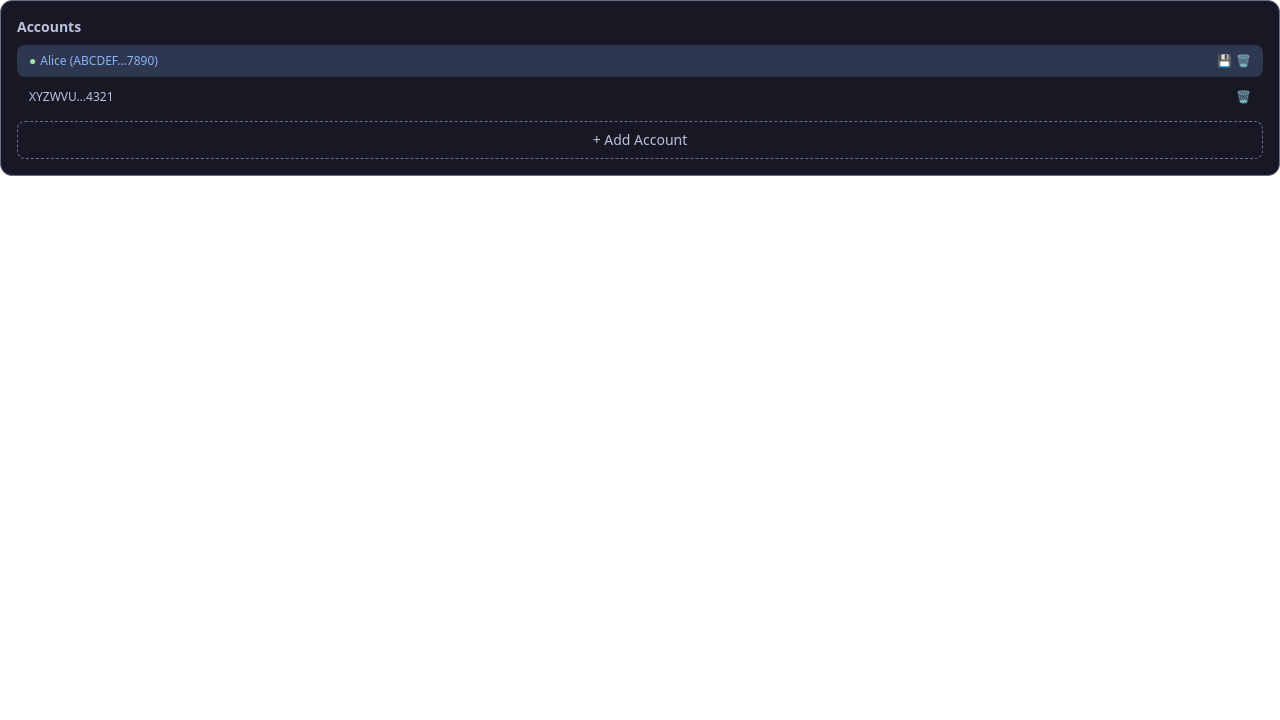
Test: AccountSwitcher › closing backup modal hides KeyExport
Click the button titled "Export key backup". click: (1224,61)
box: [1217, 53, 1232, 69]
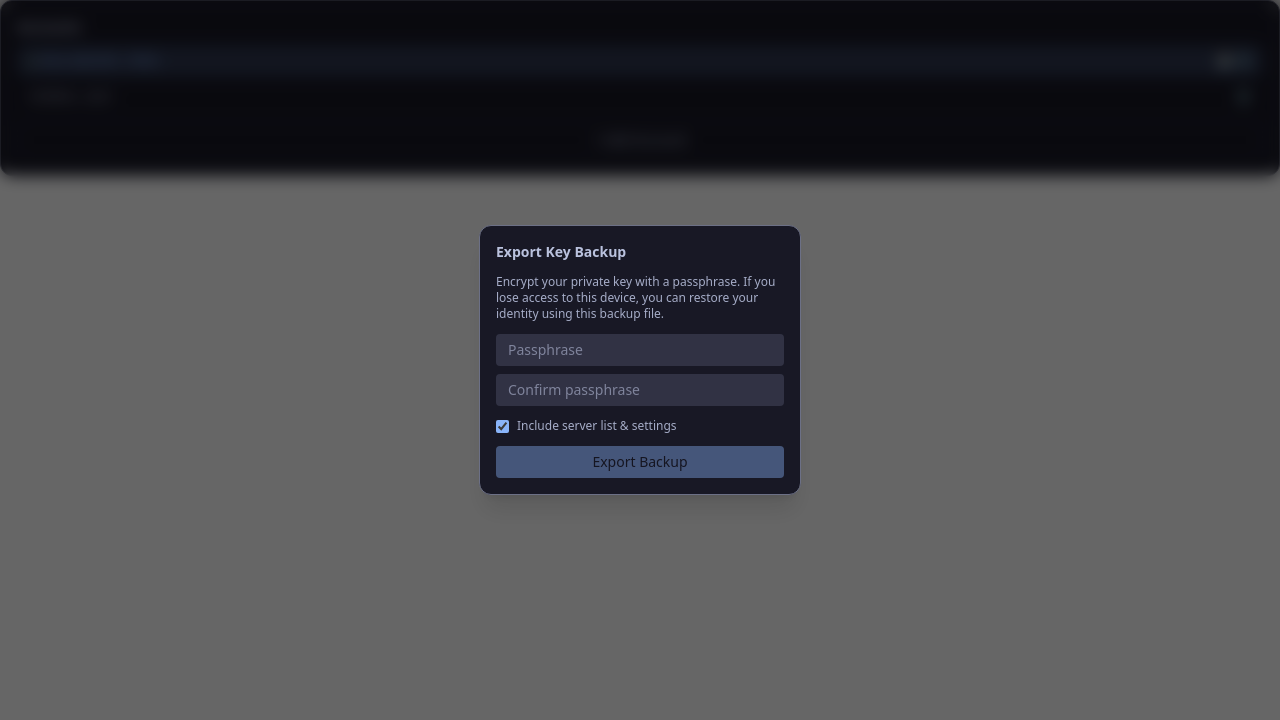
Now the heading "Export Key Backup" is shown, box [496, 242, 626, 261]
Close via Escape key
Press Escape
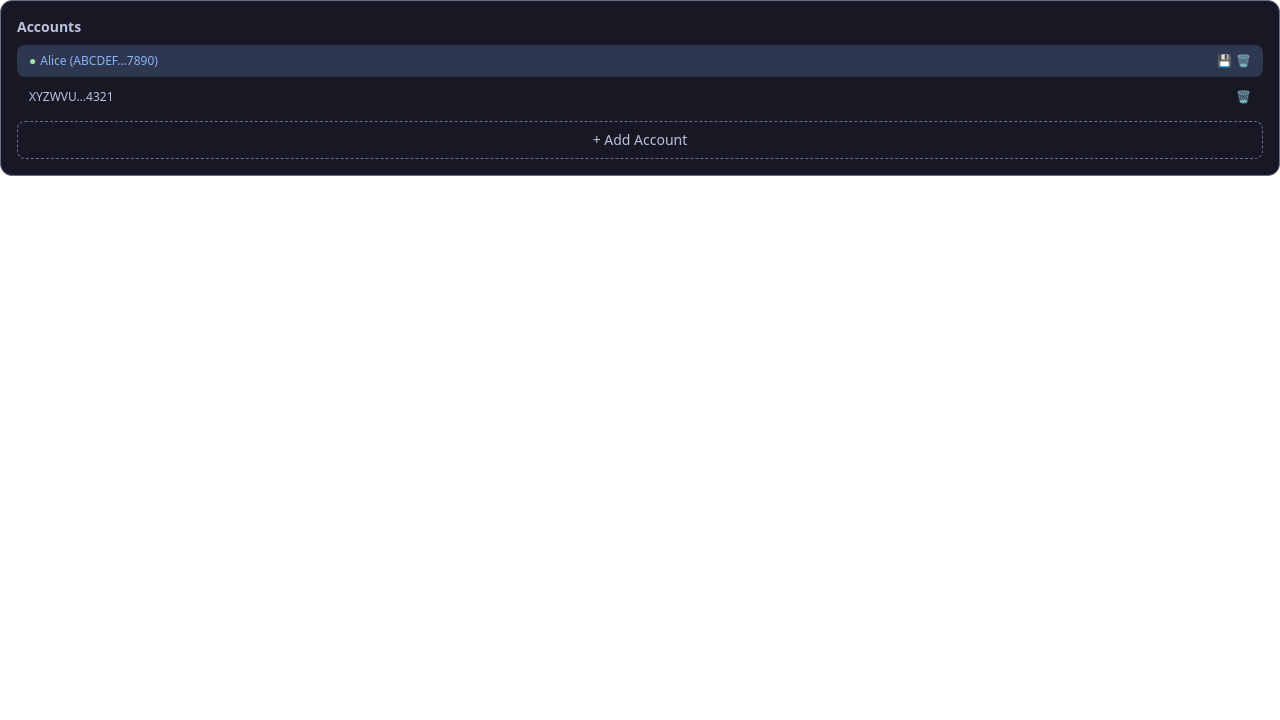
Now the heading "Export Key Backup" is gone
